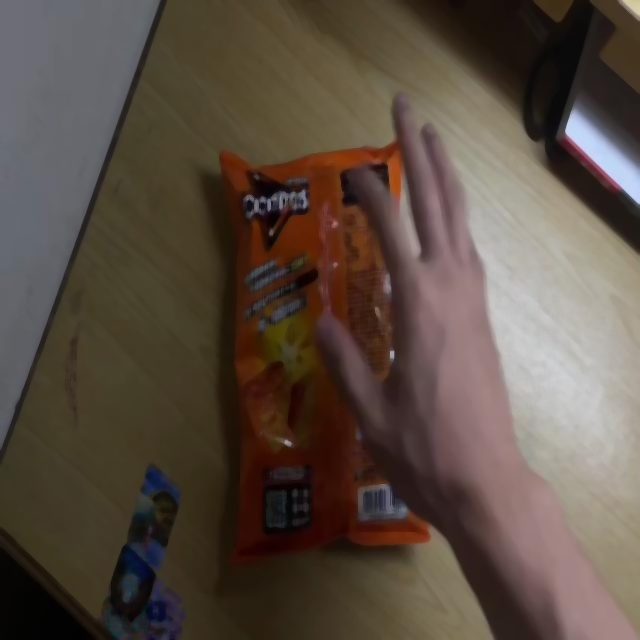Doritos: (216, 141, 432, 564)
